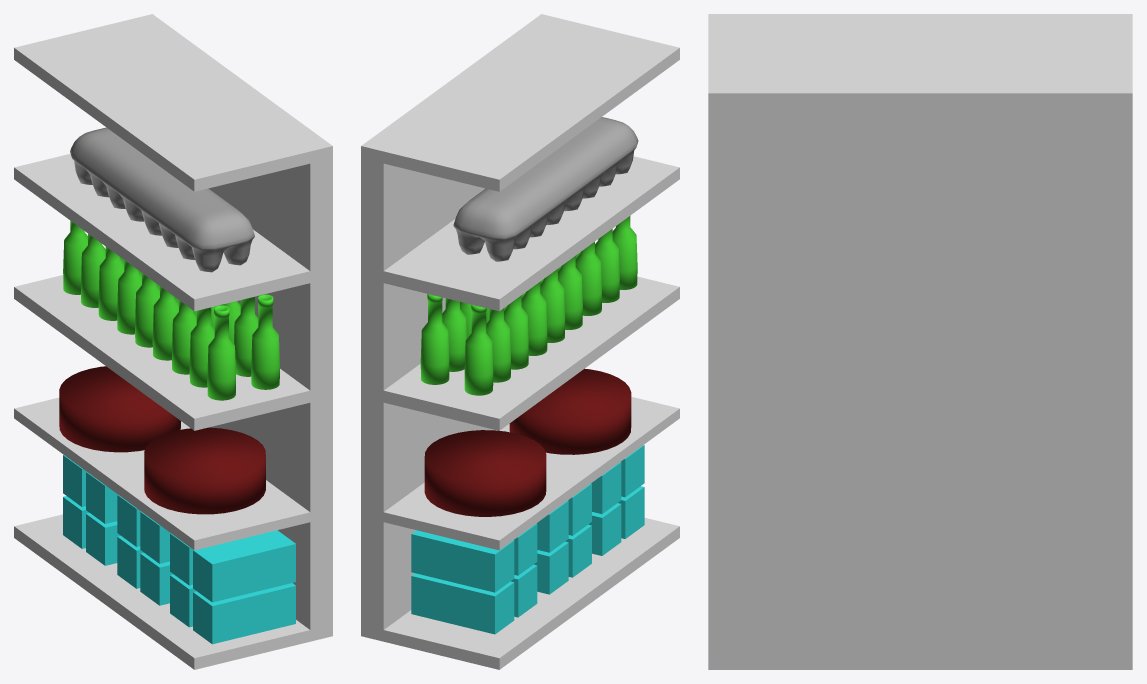
The model's file is SingleShelf.fbx.
The picture shows the model from 3 angles, left to right: view 1: azimuth 30°, elevation 25°; view 2: azimuth 150°, elevation 25°; view 3: azimuth 270°, elevation 25°; orthographic projection. The views are drawn at different scales.
Visible parts, largest first — view 1: ShelfSingle; view 2: ShelfSingle; view 3: ShelfSingle.
Part boxes in pixels (left/top/right/bottom): ShelfSingle: left=14, top=14, right=332, bottom=669; ShelfSingle: left=361, top=14, right=679, bottom=669; ShelfSingle: left=708, top=14, right=1132, bottom=669.
Size of the model in its own units: 514 by 1741 by 1161.
